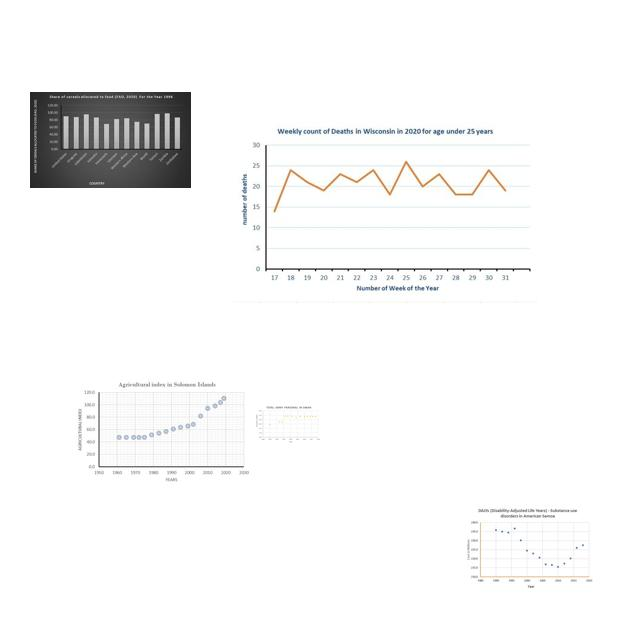Graph: (233, 122, 538, 303), (73, 377, 251, 483), (30, 92, 191, 188), (465, 506, 594, 590), (255, 405, 321, 443)
